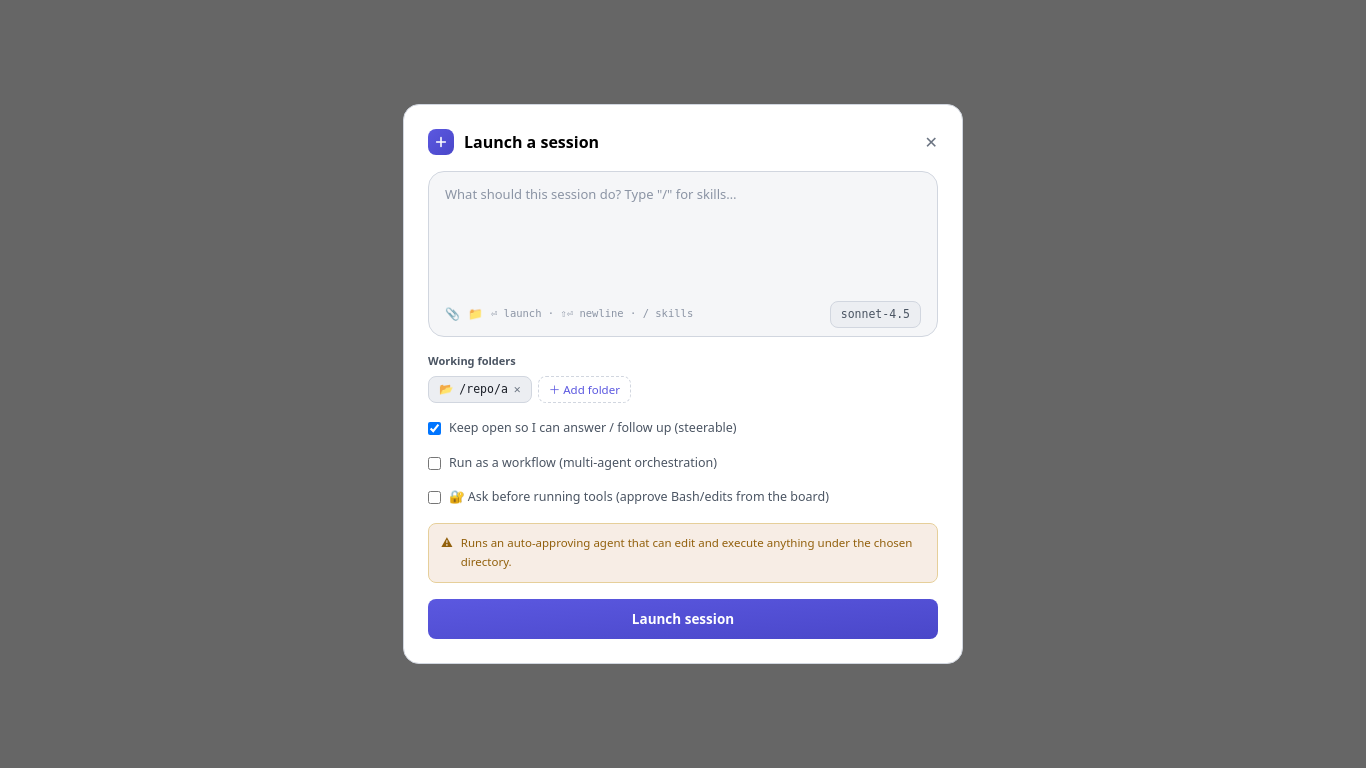
Test: shows the server error text on a non-2xx /api/spawn response
Type "Do something" into the text box with test id "launch-task-input" at (683, 237), box [445,184,921,290]
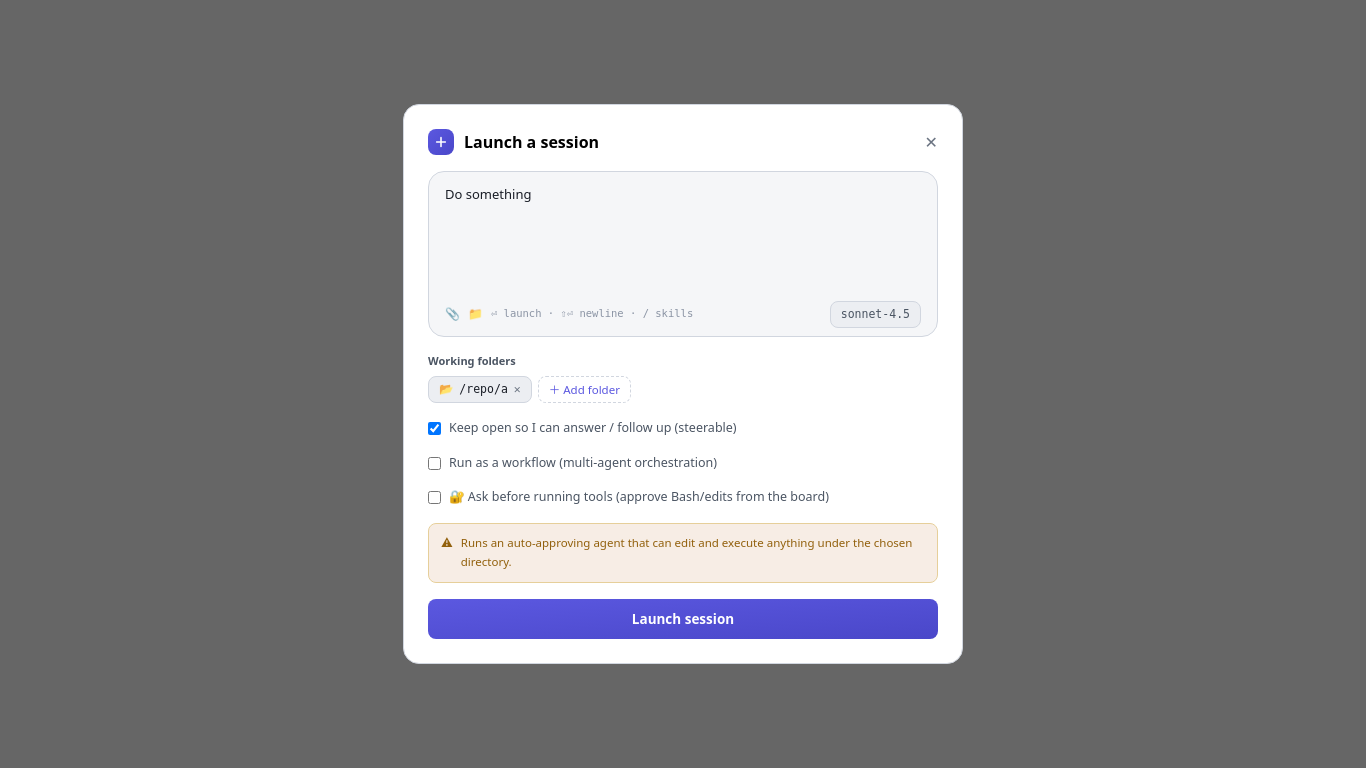
Click the button with test id "launch-submit" at (683, 619), box [428,598,938,639]
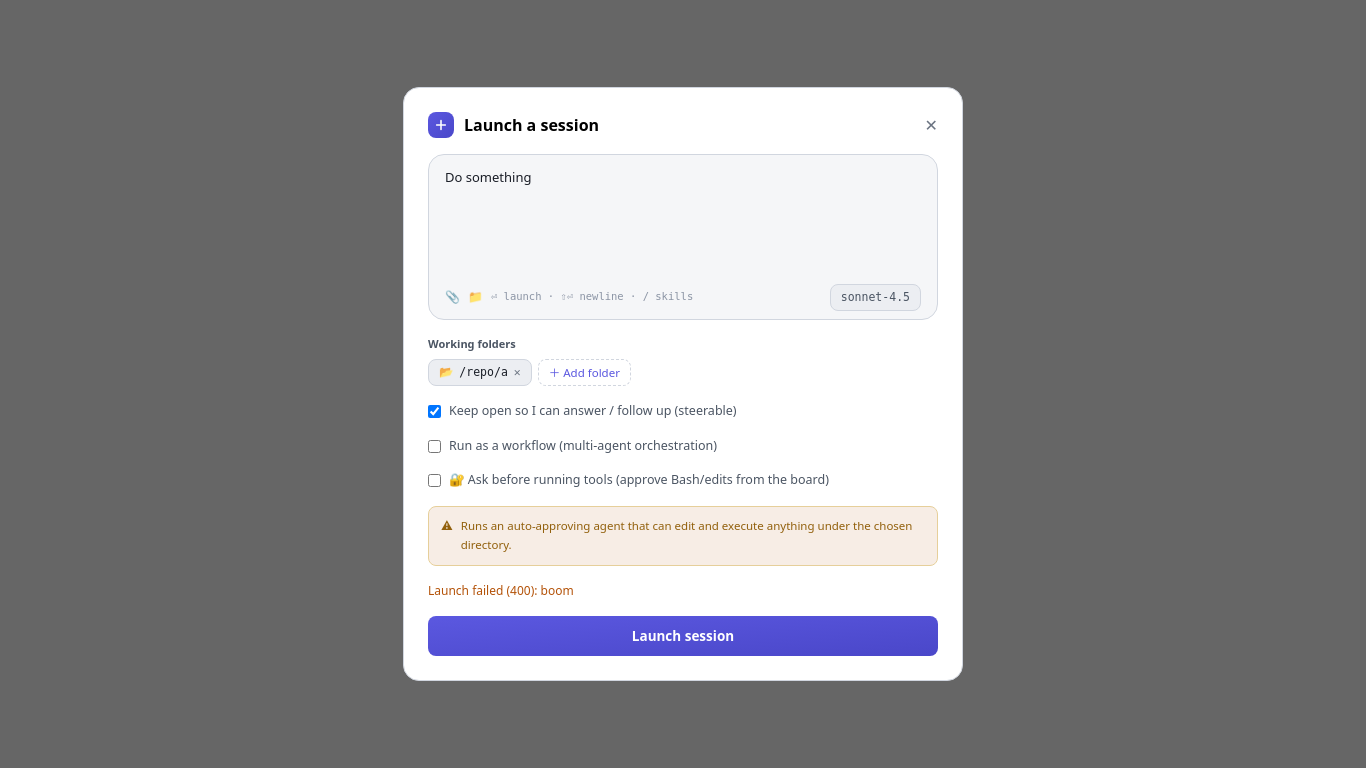
Result: the text with test id "launch-error" shows "boom" at [428,582,574,598]
